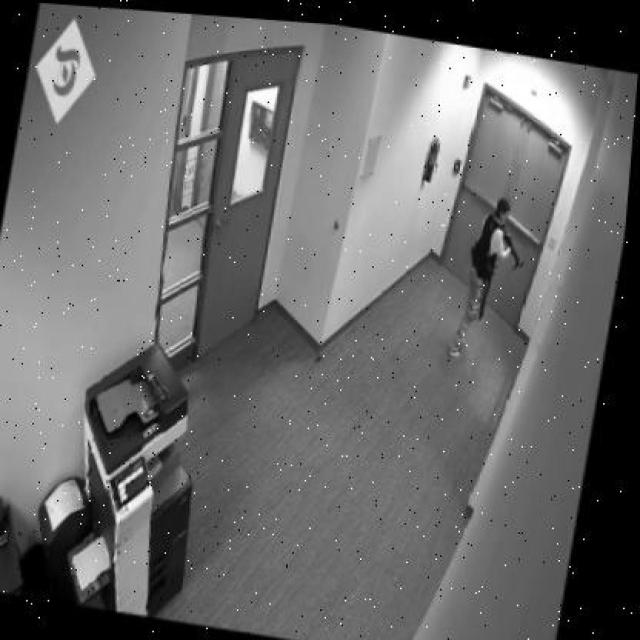weapon: (498, 225, 524, 273)
